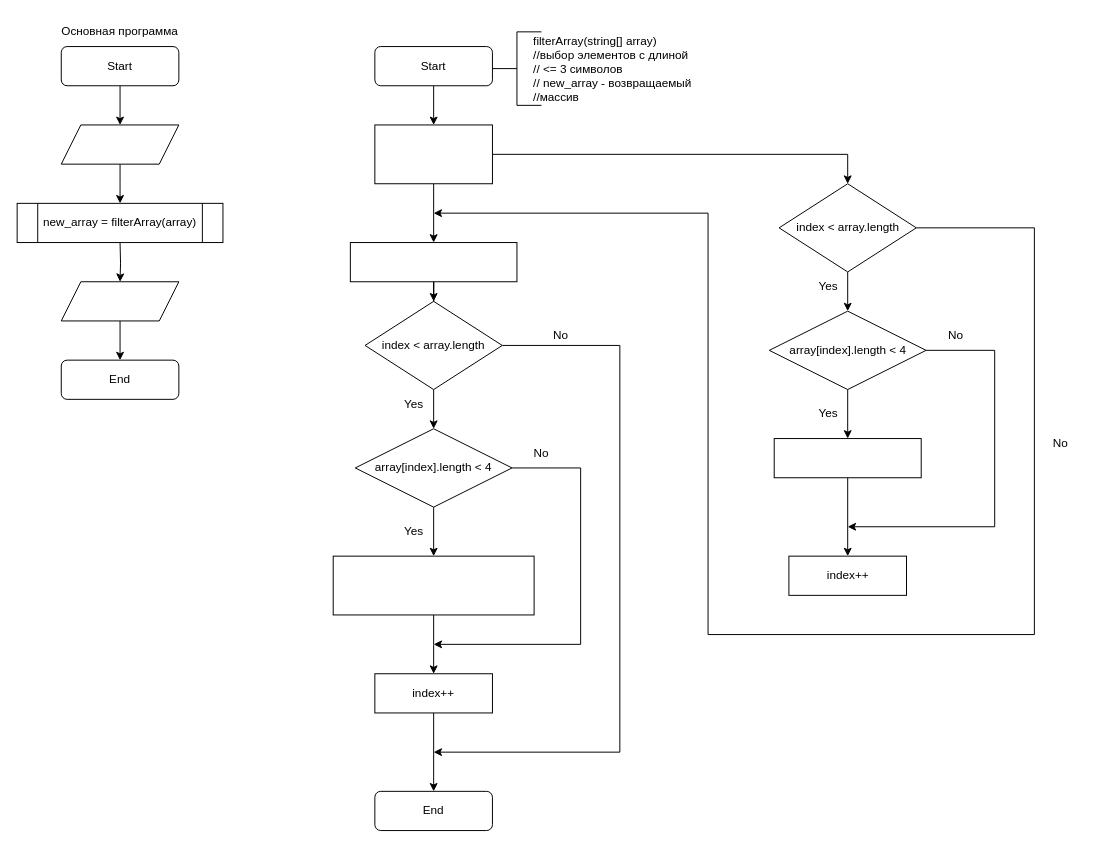
The diagram is 1107 pixels wide and 848 high, and some of its shapes have lost their labels. The centre of each missing label's shape, as x and y in pixels:
index = 0 index_new = 0 new_array_size = 0: [433,154]
new_array: [119,301]
new_array[index_new] = array[index] new_index++: [433,585]
new_array[new_array_size]: [433,262]
new_array_size++: [847,458]
size array[size]: [119,144]
